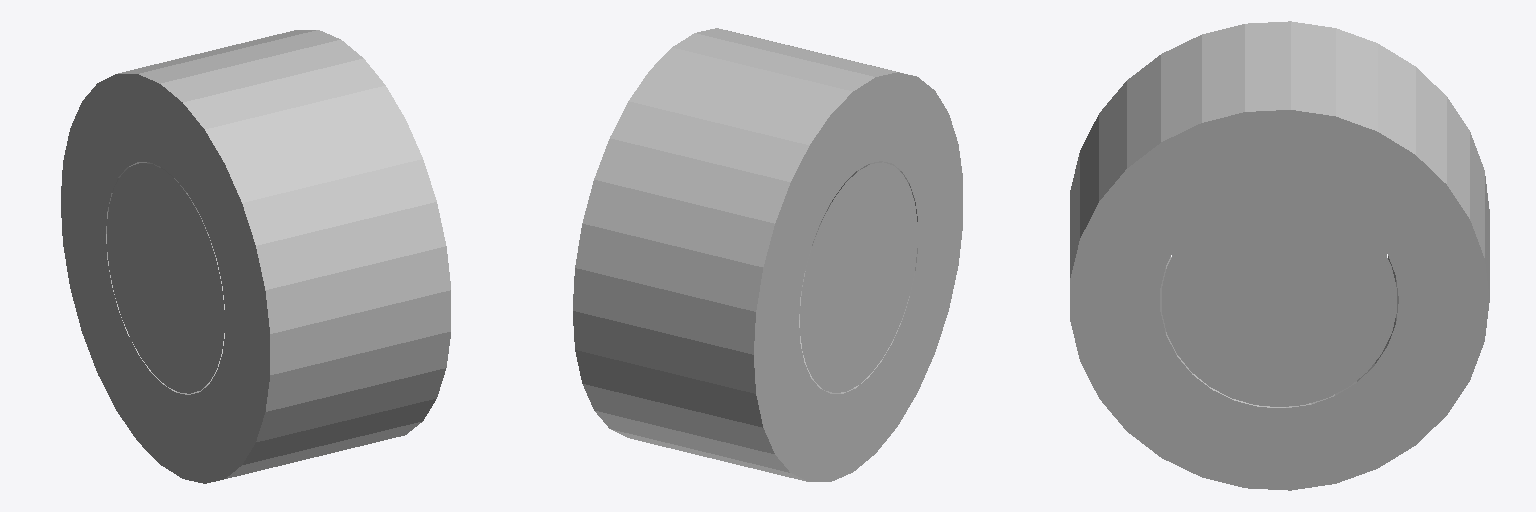
Rendered from whill.obj.
3 renders of one model, left to right at view 1: azimuth 30°, elevation 25°; view 2: azimuth 150°, elevation 25°; view 3: azimuth 270°, elevation 25°, orthographic.
Visible parts, largest first — view 1: tube, circle; view 2: tube, circle; view 3: tube, circle.
Boxes of the visible parts, x1,y1,x2,y2 form: tube: [61, 30, 450, 483]; circle: [107, 163, 224, 393]; tube: [573, 28, 962, 481]; circle: [800, 162, 917, 392]; tube: [1070, 21, 1489, 490]; circle: [1162, 192, 1396, 406].
Bounding box in the file's own units: 0.5 × 1 × 1.